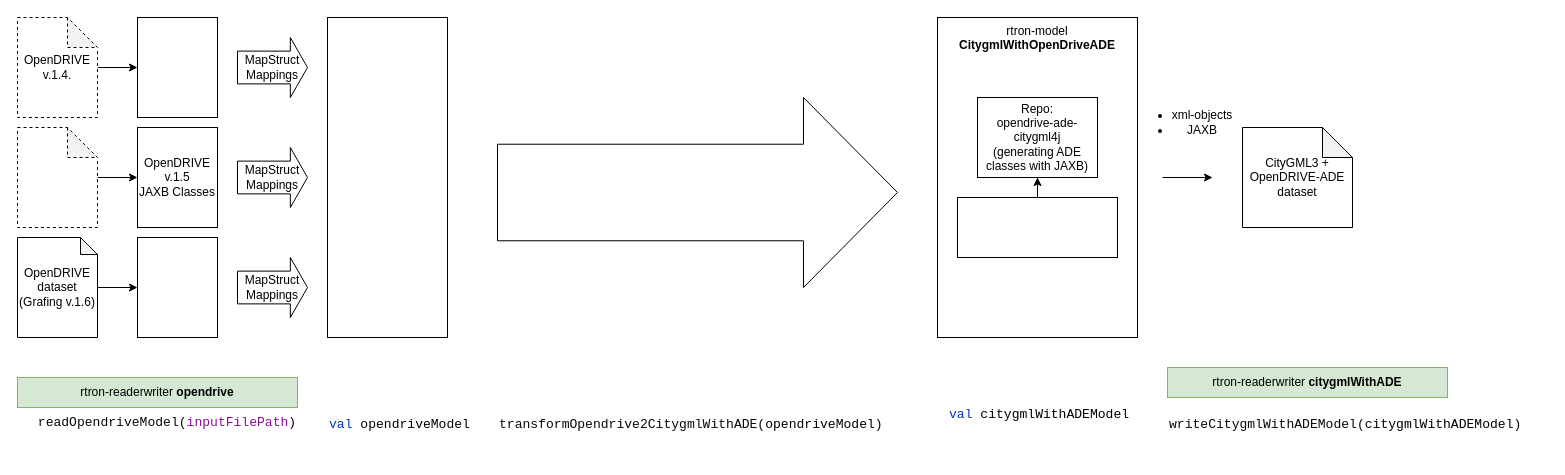
The diagram is 1565 pixels wide and 475 high, and some of its shapes have lost their labels. The shapes that lost their labels are listed below. From the top down, each one's centre as x and y in pixels, then its label:
At point (177, 67): "OpenDRIVE v.1.4 JAXB Classes".
At point (57, 177): "OpenDRIVE v.1.5.".
At point (387, 177): "rtron-model opendrive (objective: newest OpenDRIVE version)".
At point (697, 192): "rtron-transformer opendrive2citygmlWithOpenDriveADE (trying to use MapStruct)".
At point (1037, 227): "citygml4j v3.0.0-rc.3 (CityGML 3 implementation)".
At point (177, 287): "OpenDRIVE v.1.6 JAXB Classes".
